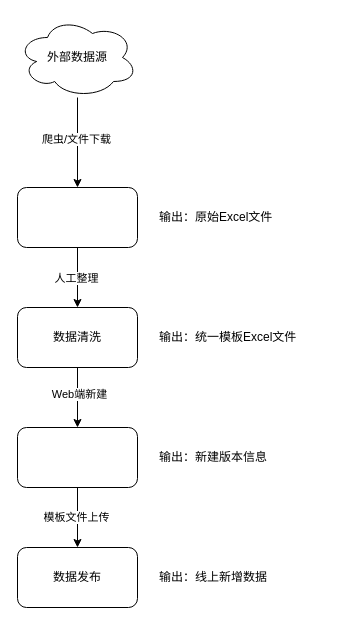
Some shapes in this 345 by 625 pixel diagram are drawn without their labels. The shapes that lost their labels are listed below. From the top down, each one's box as (x1, y1, x2, y2) in pixels, then its label:
(16, 186, 138, 248): 数据采集
(16, 426, 138, 488): 版本创建
